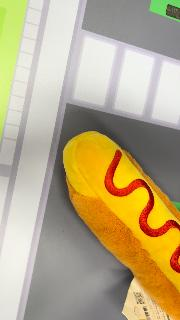hotdog: (63, 130, 180, 318)
